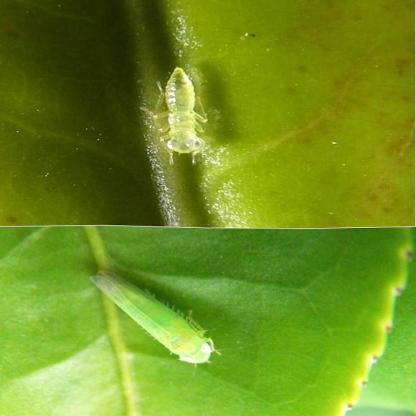green-leafhopper: (94, 269, 224, 368), (140, 63, 224, 167)
